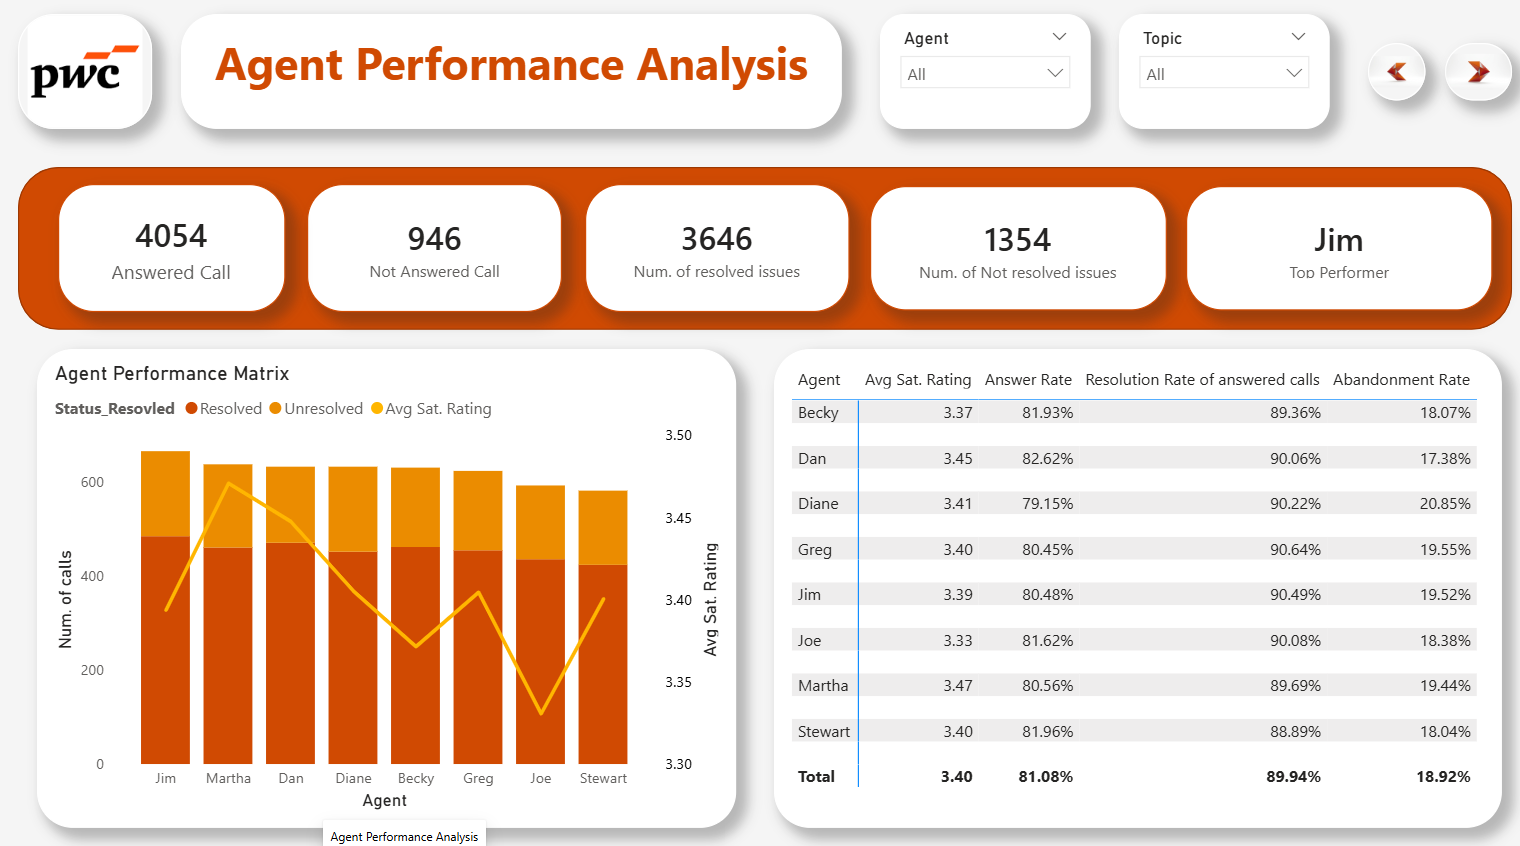

Layout of this report page (visuals, bound fields, positions):
{"tool":"powerbi","page":{"name":"Agent Performance Analysis","canvas":[1280,720],"ordinal":2},"visuals":[{"type":"shape","box":[24,144,1248,136],"z":0,"group":"g1"},{"type":"lineStackedColumnComboChart","title":"Agent Performance Matrix","fields":{"Category":["Sheet1.Agent"],"Y2":["_Measures.Avg Satisfaction Rating"],"Y":["_Measures.Num. of calls"],"Series":["Sheet1.Status_Resovled"]},"box":[40,296,584,400],"z":0},{"type":"slicer","fields":{"Values":["Sheet1.Agent"]},"box":[744,16,176,96],"z":1000},{"type":"cardVisual","fields":{"Data":["_Measures.Not Answered Call"]},"box":[265.8,158.3,213.3,107.4],"z":1000,"group":"g1"},{"type":"slicer","fields":{"Values":["Sheet1.Topic"]},"box":[944,16,176,96],"z":2000},{"type":"cardVisual","fields":{"Data":["_Measures.Num. of resolved issues"]},"box":[497.6,158.3,220.8,107.4],"z":2000,"group":"g1"},{"type":"image","box":[24,16,112,96],"z":3000},{"type":"cardVisual","fields":{"Data":["_Measures.Num. of Not resolved issues"]},"box":[736,160,248,104],"z":3000,"group":"g1"},{"type":"image","box":[1216,40,56,48],"z":4000},{"type":"cardVisual","fields":{"Data":["_Measures.Top Agent Name"]},"box":[1000,160,256,104],"z":4000,"group":"g1"},{"type":"textbox","box":[160,16,552,96],"z":5000},{"type":"cardVisual","fields":{"Data":["_Measures.Answered Call"]},"box":[57.6,158.3,189.6,107.4],"z":5000,"group":"g1"},{"type":"image","box":[1152,40,48,48],"z":6000},{"type":"group","id":"g1","title":"Group 1","box":[24,144,1248,136],"z":7000},{"type":"pivotTable","title":"Agent Performance Matrix","fields":{"Rows":["Sheet1.Agent"],"Values":["_Measures.Avg Satisfaction Rating","_Measures.Answer Rate","_Measures.Resolution Rate of answered calls","_Measures.Abandonment Rate"]},"box":[656,296,608,400],"z":8000}]}

Visuals, with their boxes in screenshot pixels (x1, y1, x2, y2), scaled from the page's 1280x720 canvas onto the 1520x846 screenshot:
shape: 28:169:1510:329
"Agent Performance Matrix" lineStackedColumnComboChart: 48:348:741:818
slicer - Sheet1.Agent: 884:19:1092:132
cardVisual - _Measures.Not Answered Call: 316:186:569:312
slicer - Sheet1.Topic: 1121:19:1330:132
cardVisual - _Measures.Num. of resolved issues: 591:186:853:312
image: 28:19:162:132
cardVisual - _Measures.Num. of Not resolved issues: 874:188:1168:310
image: 1444:47:1510:103
cardVisual - _Measures.Top Agent Name: 1188:188:1492:310
textbox: 190:19:846:132
cardVisual - _Measures.Answered Call: 68:186:294:312
image: 1368:47:1425:103
"Group 1" group: 28:169:1510:329
"Agent Performance Matrix" pivotTable: 779:348:1501:818
